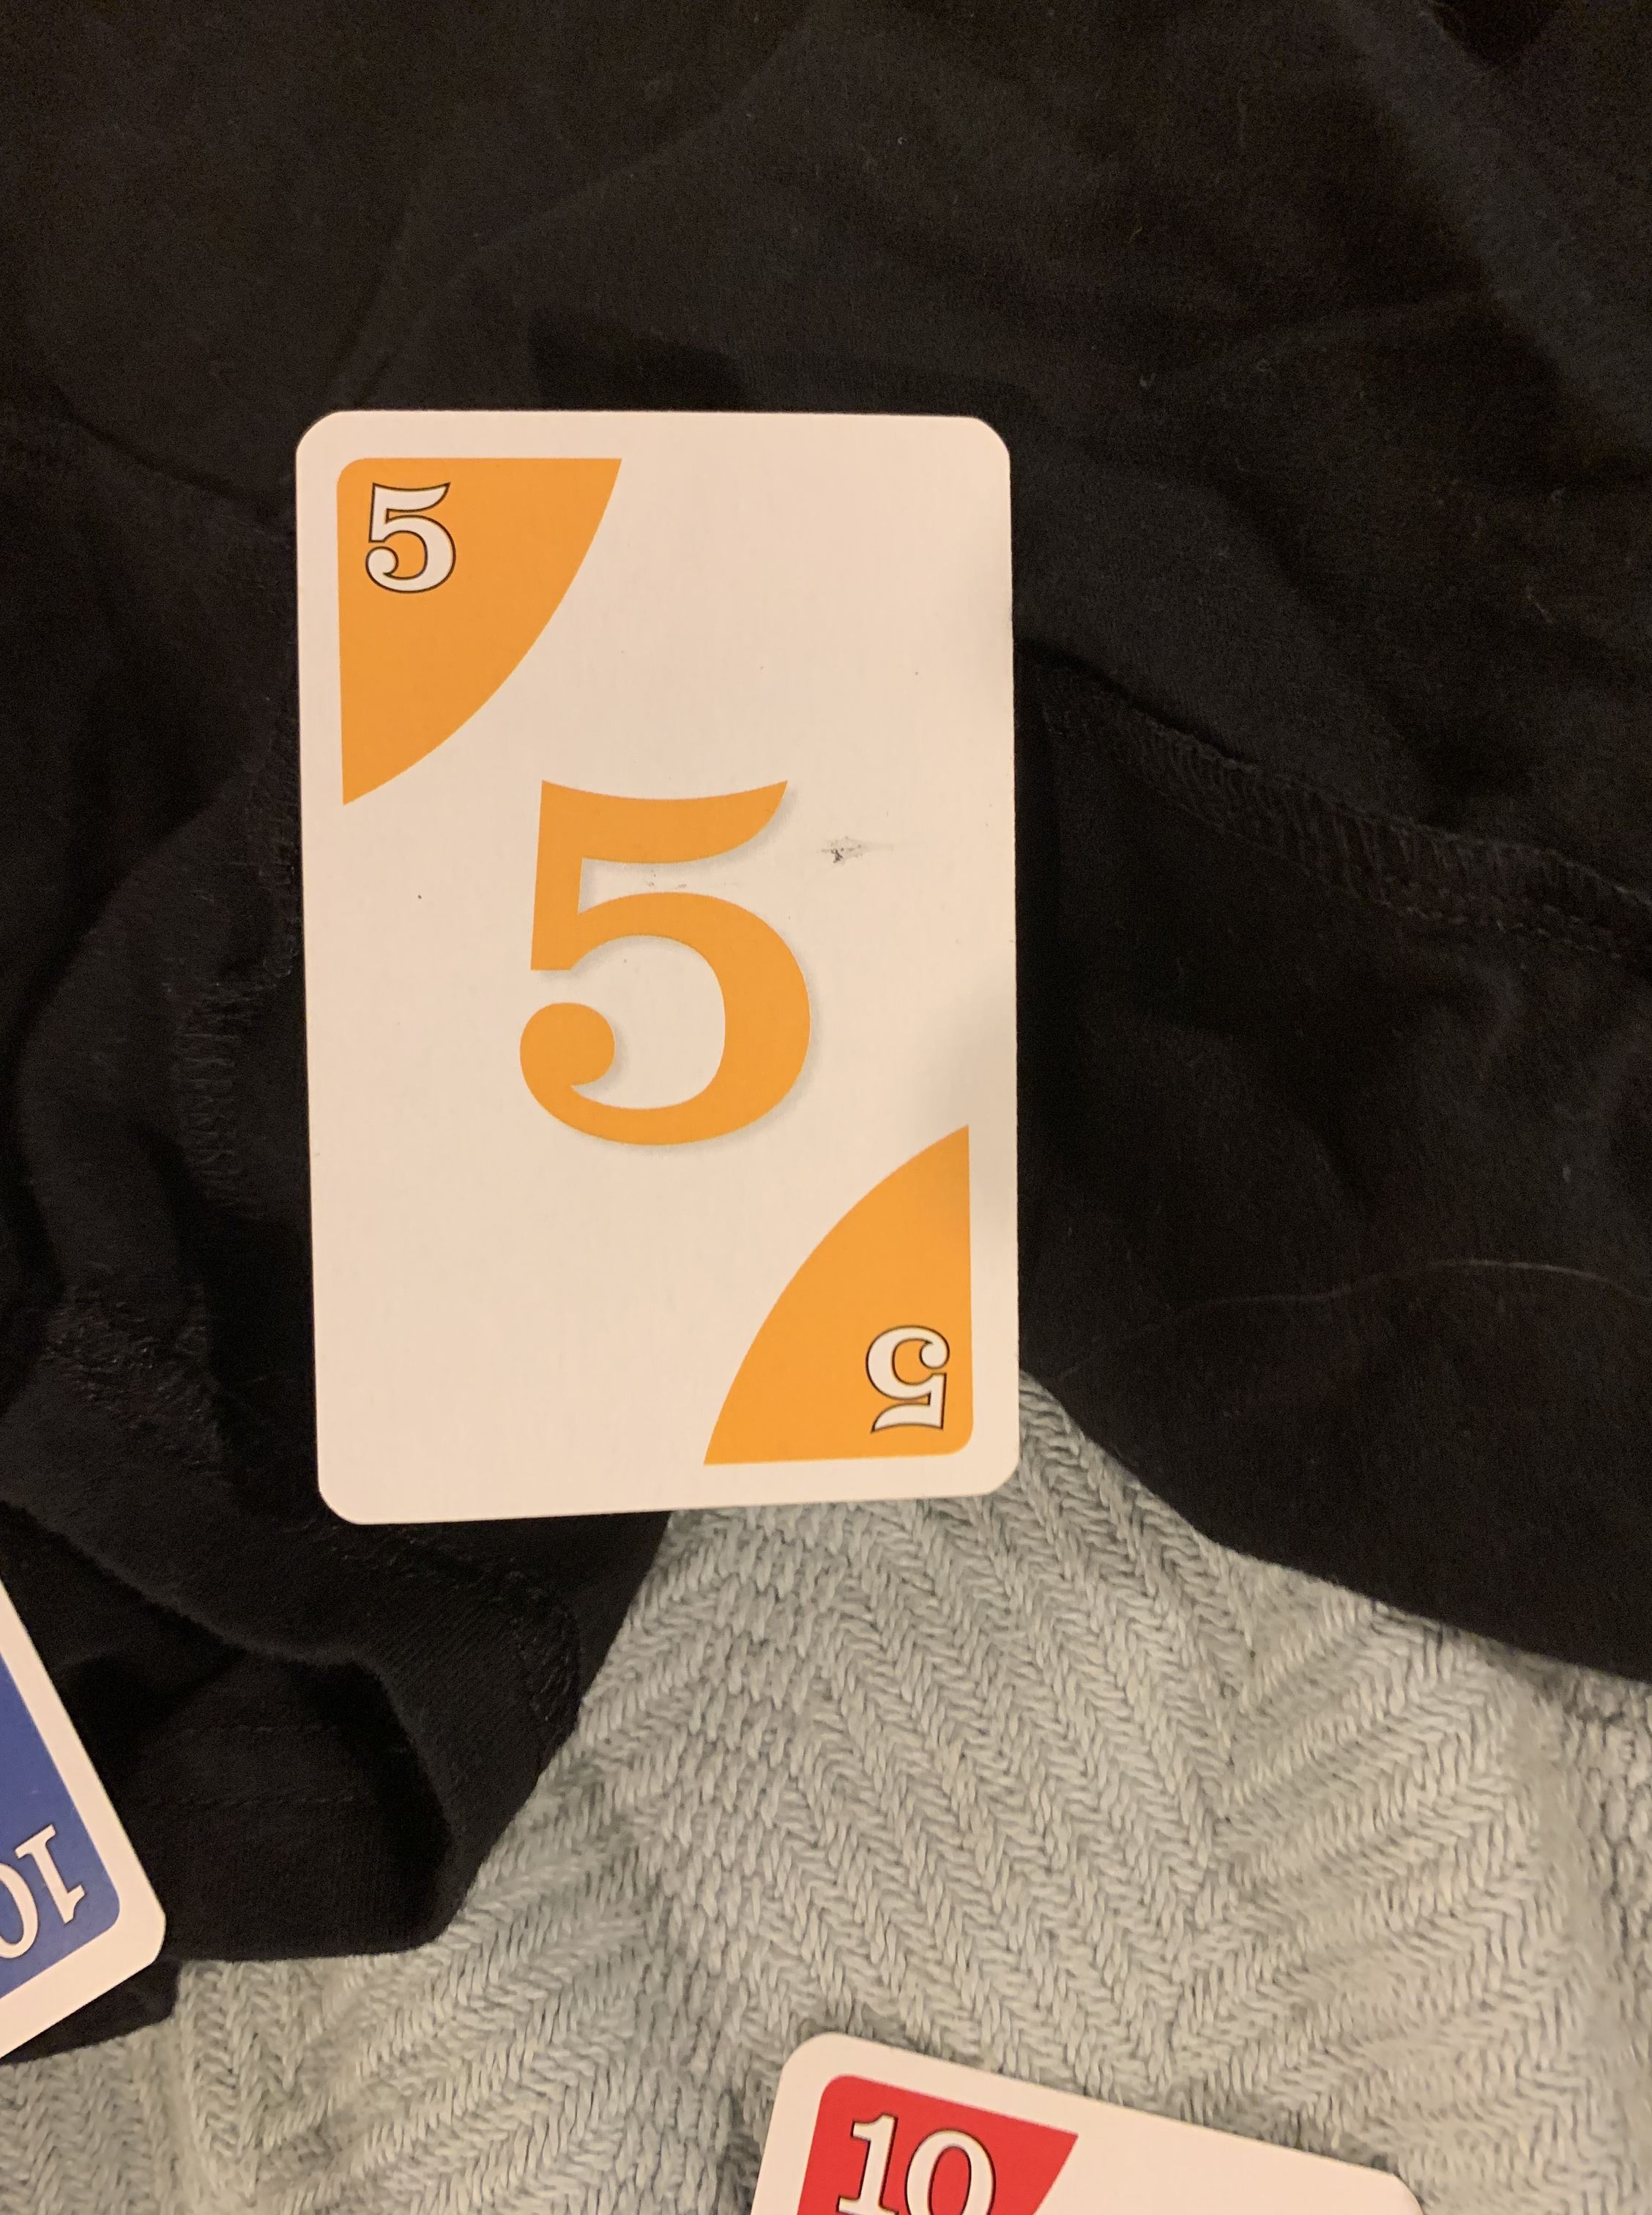five: (272, 403, 1055, 1541)
